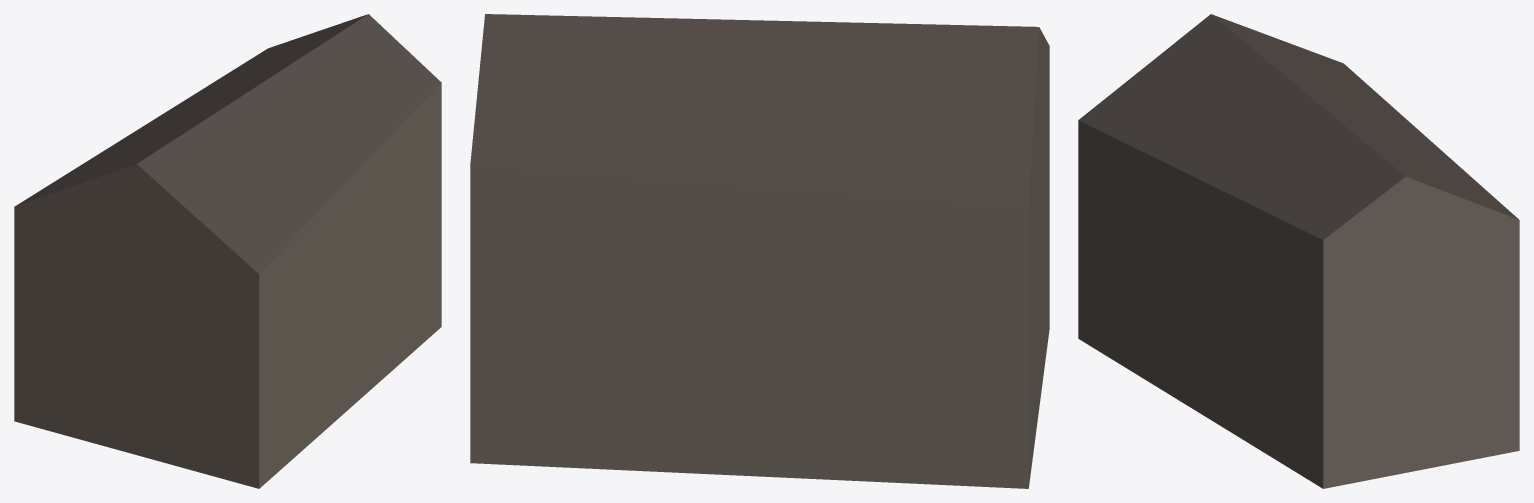
3 renders of one model, left to right at view 1: azimuth 30°, elevation 25°; view 2: azimuth 150°, elevation 25°; view 3: azimuth 270°, elevation 25°, orthographic. The views are drawn at different scales.
Visible parts, largest first — view 1: HP-w1197052541; view 2: HP-w1197052541; view 3: HP-w1197052541.
Boxes of the visible parts, x1,y1,x2,y2 form: HP-w1197052541: (14,14,441,488); HP-w1197052541: (470,14,1049,488); HP-w1197052541: (1078,14,1519,488).
Bounding box in the file's own units: 12.2 × 8.14 × 10.99.
